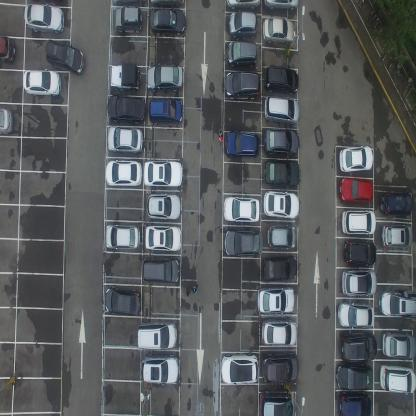car: (44, 37, 85, 76), (136, 319, 178, 352), (23, 2, 64, 35), (106, 92, 146, 124), (140, 353, 180, 384), (221, 352, 258, 384), (262, 352, 299, 384), (379, 362, 416, 394), (144, 63, 183, 93), (104, 284, 140, 316), (264, 94, 300, 126), (224, 70, 260, 102), (223, 228, 264, 256), (149, 6, 186, 37), (22, 68, 61, 97), (335, 363, 374, 392), (379, 289, 415, 320), (340, 332, 377, 362), (262, 159, 300, 188), (261, 317, 298, 346), (257, 285, 294, 314), (144, 160, 182, 188), (381, 330, 416, 360), (262, 253, 298, 282), (338, 144, 374, 173), (105, 160, 142, 188), (223, 194, 260, 222), (263, 127, 300, 155), (337, 301, 375, 328), (226, 130, 260, 160), (264, 66, 298, 96), (340, 175, 374, 205), (342, 268, 378, 296), (142, 258, 180, 284), (259, 389, 297, 415), (108, 63, 141, 92), (146, 194, 180, 222), (145, 225, 181, 251), (107, 127, 143, 153), (263, 16, 294, 46), (381, 221, 413, 250), (342, 209, 376, 236), (105, 224, 140, 250), (380, 190, 412, 218), (226, 41, 257, 69), (344, 239, 376, 266), (150, 98, 183, 124), (338, 391, 372, 416), (228, 12, 257, 40), (113, 5, 144, 31), (267, 222, 297, 248), (264, 0, 299, 15), (0, 34, 16, 65), (0, 105, 13, 135), (226, 0, 261, 11)
